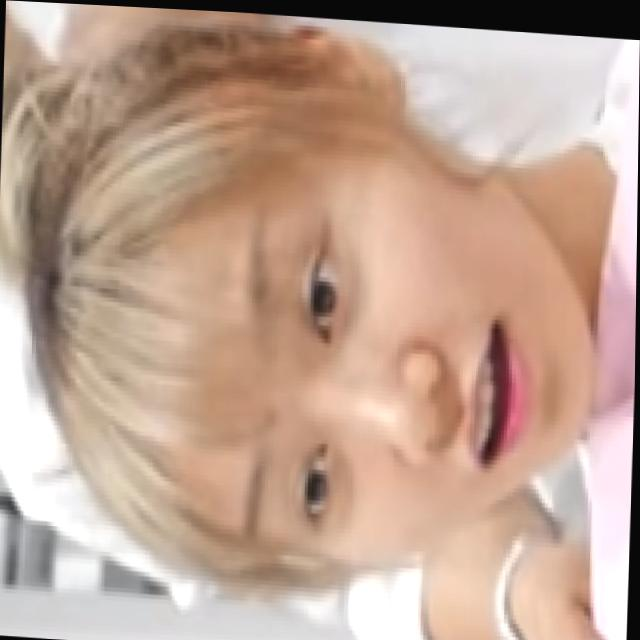face: (174, 115, 611, 589)
